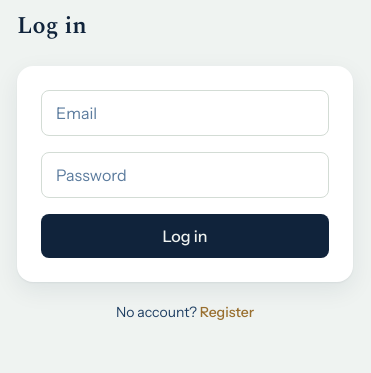
it: LoginPage › shows an error message when login fails
Type "ada@example.com" into the field with placeholder "Email" at coordinates (185, 113), box x1=41 y1=90 x2=329 y2=136
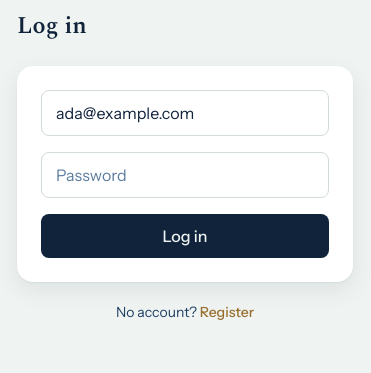
Type "wrong-password" into the password field with placeholder "Password" at coordinates (185, 175), box x1=41 y1=152 x2=329 y2=198
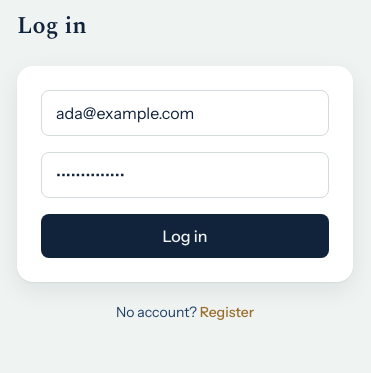
Click the button "Log in" at coordinates (185, 236), box x1=41 y1=214 x2=329 y2=258
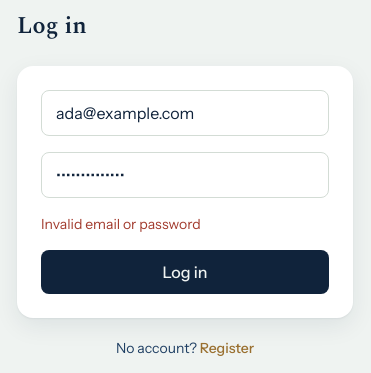
Check: the text "Invalid email or password" is shown, box x1=41 y1=215 x2=201 y2=233
